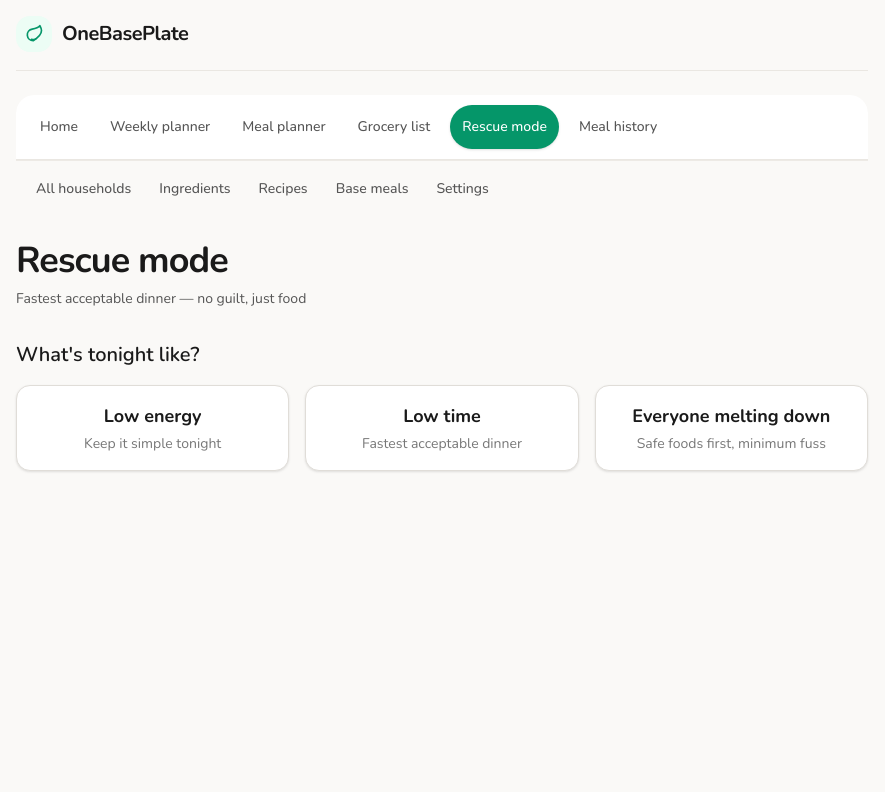
Test case: F012: RescueMode page — rescue results › shows rescue meals after picking a scenario
Click the button with test id "scenario-low-time".
click(442, 428)  # box [305,385,579,471]
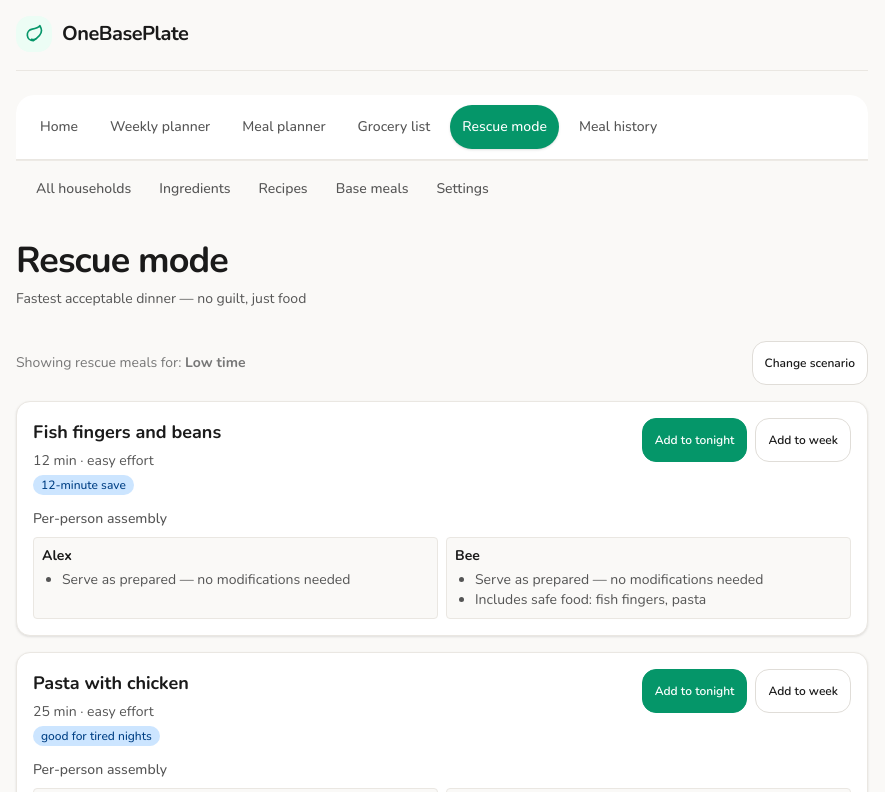
Expected: the element with test id "rescue-meal-meal-fishfingers" is shown, [16,401,868,636]
